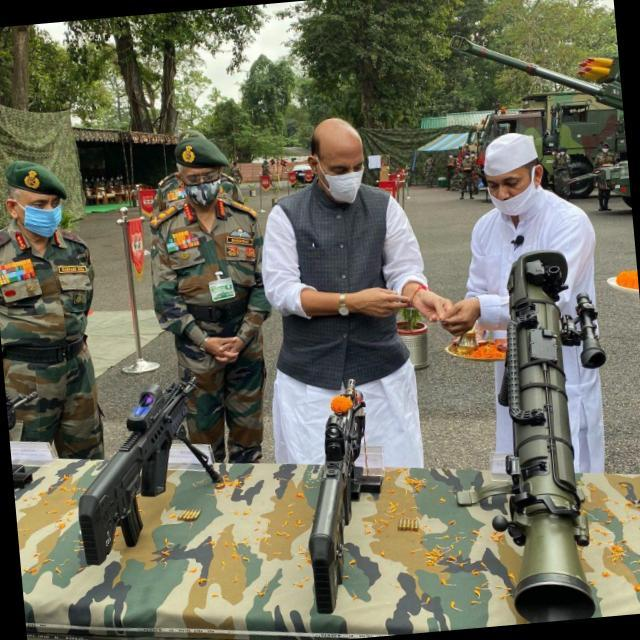rocket: (444, 248, 626, 628)
